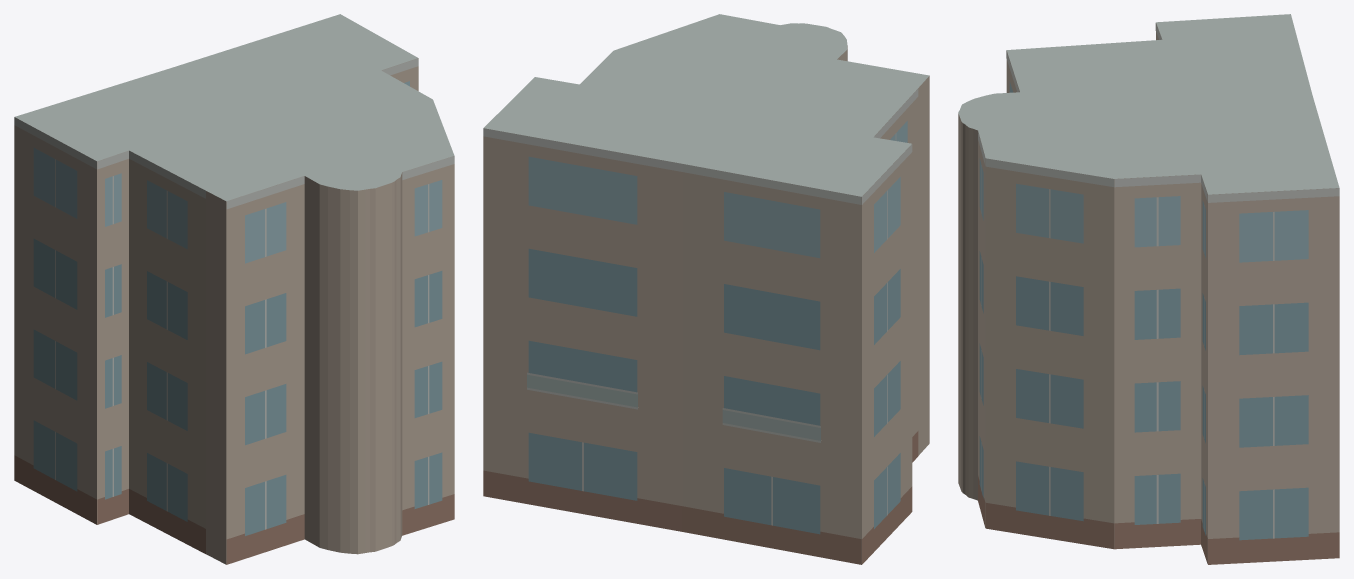
File: survey-upis-32916243.glb
3 renders of one model, left to right at view 1: azimuth 30°, elevation 25°; view 2: azimuth 150°, elevation 25°; view 3: azimuth 270°, elevation 25°, orthographic.
Parts seen in each view (by area): view 1: survey-upis-32916243.tmp; view 2: survey-upis-32916243.tmp; view 3: survey-upis-32916243.tmp.
Part boxes in pixels (box(x1,y1,x2,y2)): survey-upis-32916243.tmp: box(14, 14, 454, 564); survey-upis-32916243.tmp: box(483, 14, 929, 564); survey-upis-32916243.tmp: box(958, 14, 1339, 564).
Size of the model in its own units: 11.42 by 10.9 by 10.18.
